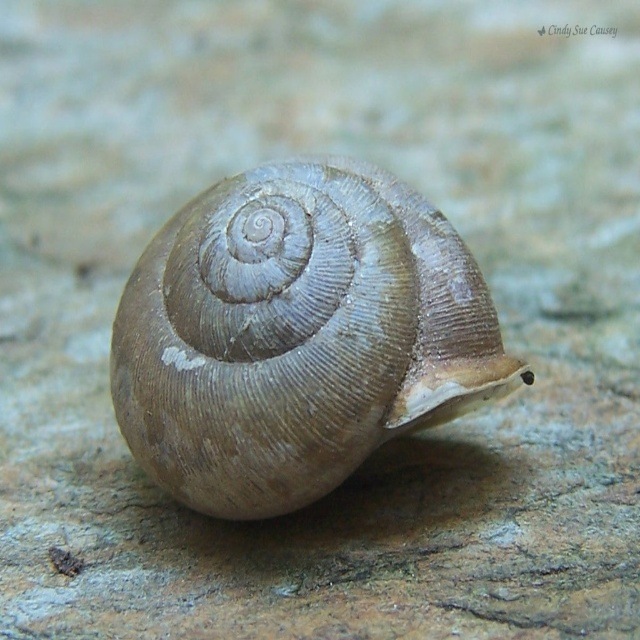Snail: (109, 153, 535, 520)
